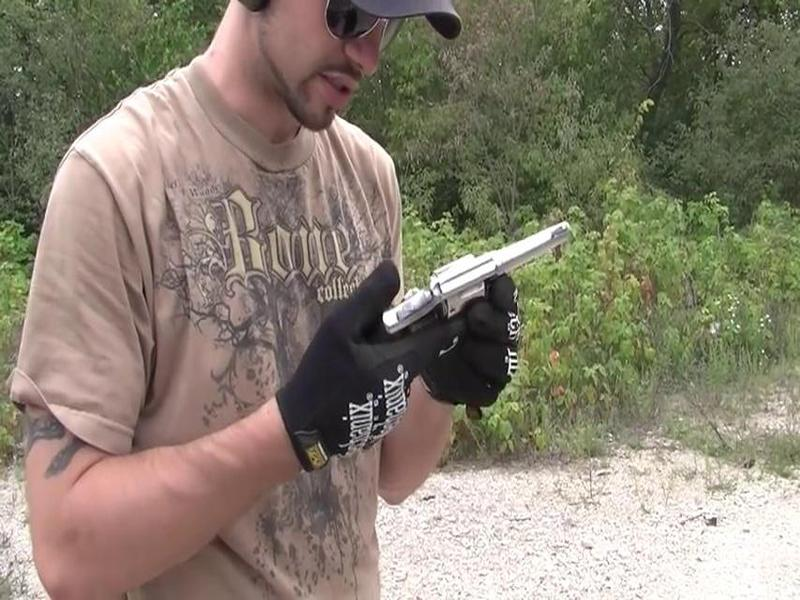Revolver: (377, 206, 606, 351)
